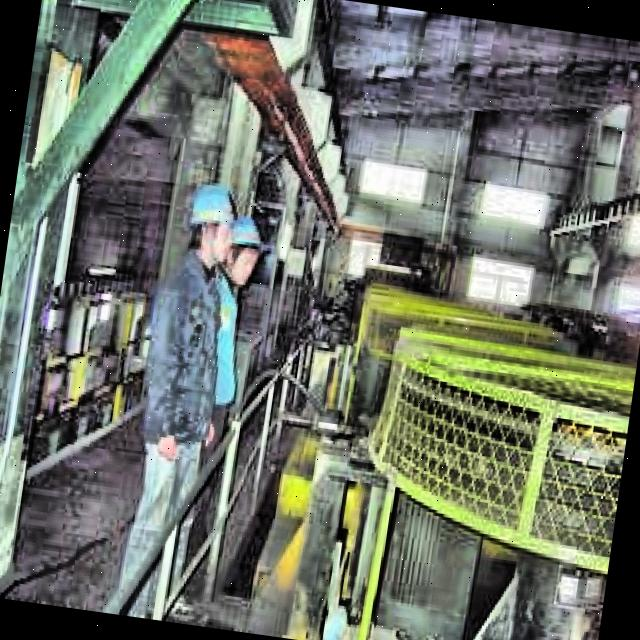helmet: (182, 174, 238, 270), (222, 212, 268, 287)
